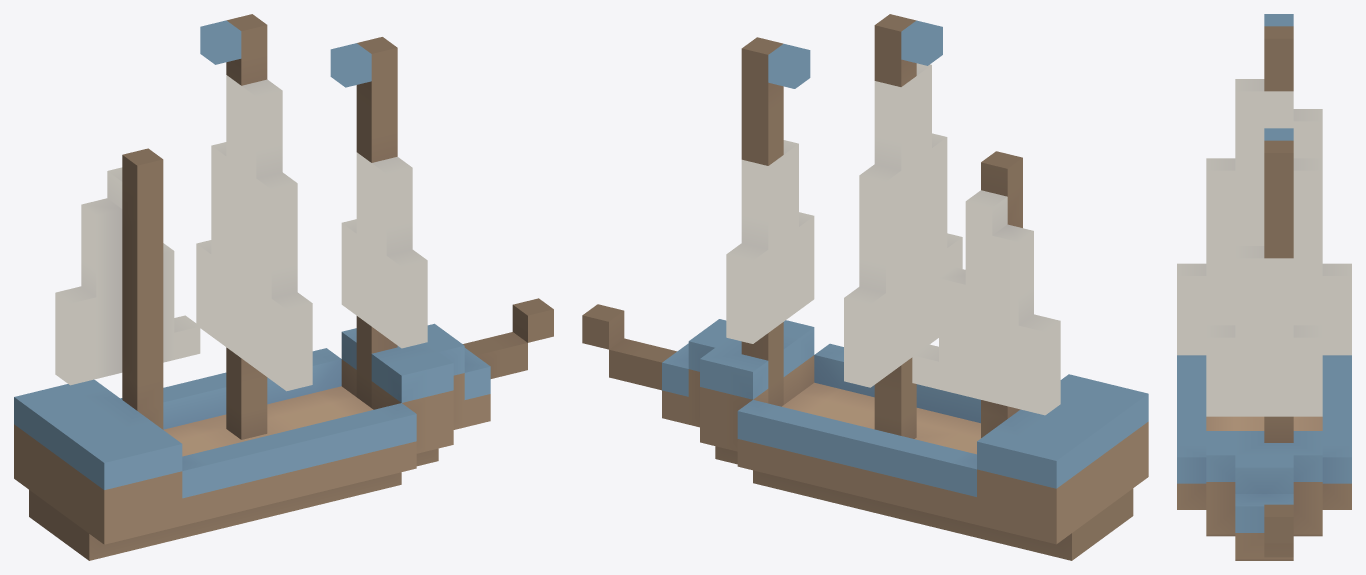
File: war_carrack.lite.glb
3 renders of one model, left to right at view 1: azimuth 30°, elevation 25°; view 2: azimuth 150°, elevation 25°; view 3: azimuth 270°, elevation 25°, orthographic. The views are drawn at different scales.
Parts seen in each view (by area): view 1: war_carrack; view 2: war_carrack; view 3: war_carrack.
Boxes of the visible parts, bbox=[...] form: war_carrack: bbox=[14, 14, 553, 560]; war_carrack: bbox=[582, 14, 1148, 560]; war_carrack: bbox=[1177, 14, 1351, 560].
Size of the model in its own units: 3.8 by 3.4 by 1.2.
